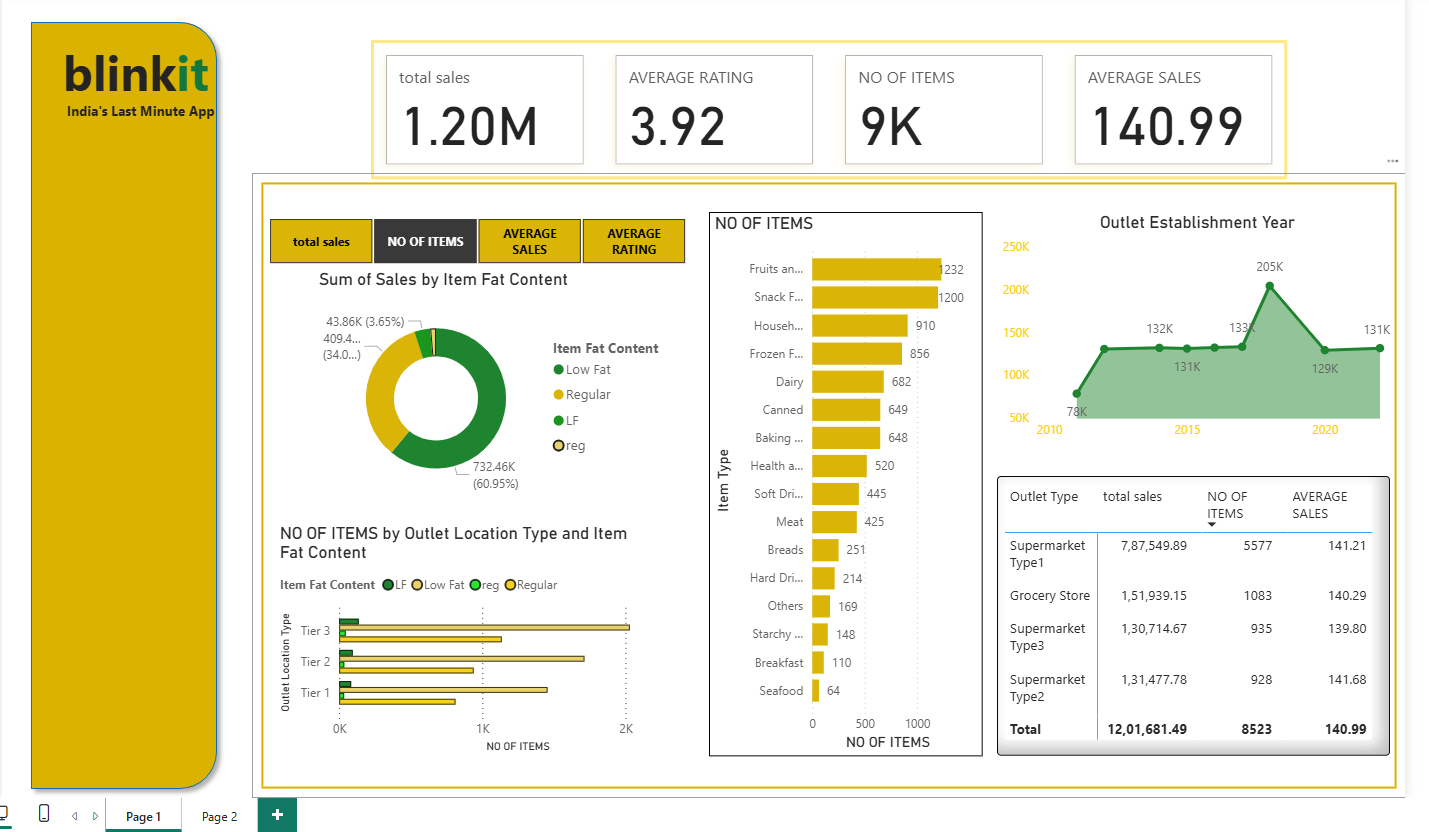

Layout of this report page (visuals, bound fields, positions):
{"tool":"powerbi","page":{"name":"Page 1","canvas":[1400,800],"ordinal":0},"visuals":[{"type":"shape","box":[20,17,203.5,783],"z":0},{"type":"textbox","box":[55.3,38.3,157.4,86.2],"z":1000},{"type":"textbox","box":[0,97.9,242.6,46.8],"z":2000},{"type":"cardVisual","fields":{"Data":["BlinkIT Grocery Data.total sales","BlinkIT Grocery Data.AVERAGE RATING","BlinkIT Grocery Data.NO OF ITEMS","BlinkIT Grocery Data.AVERAGE SALES"]},"box":[363.1,38.6,926.9,149.4],"z":3000},{"type":"slicer","fields":{"Values":["Parameter.Parameter"]},"box":[241,215.3,464.3,57.8],"z":4000},{"type":"clusteredBarChart","fields":{"Y":["BlinkIT Grocery Data.NO OF ITEMS"],"Category":["BlinkIT Grocery Data.Outlet Location Type"],"Series":["BlinkIT Grocery Data.Item Fat Content"]},"box":[272.3,525.5,433,233],"z":5000},{"type":"barChart","title":"NO OF ITEMS  ","fields":{"Y":["BlinkIT Grocery Data.NO OF ITEMS"],"Category":["BlinkIT Grocery Data.Item Type"]},"box":[705.2,215.3,273.1,543],"z":6000},{"type":"lineChart","title":"Outlet Establishment Year","fields":{"Y":["BlinkIT Grocery Data.total sales"],"Category":["BlinkIT Grocery Data.Outlet Establishment Year"]},"box":[992.6,216,400,235.1],"z":7000},{"type":"donutChart","fields":{"Y":["Sum(BlinkIT Grocery Data.Sales)"],"Category":["BlinkIT Grocery Data.Item Fat Content"]},"box":[311.7,272.3,355.3,237.2],"z":8000},{"type":"pivotTable","fields":{"Rows":["BlinkIT Grocery Data.Outlet Type"],"Values":["BlinkIT Grocery Data.total sales","BlinkIT Grocery Data.NO OF ITEMS","BlinkIT Grocery Data.AVERAGE SALES"]},"box":[992.5,478.8,392,279.3],"z":9000},{"type":"shape","box":[249.4,176.6,1151.1,623.4],"z":10000}]}

Visuals, with their boxes on the page's 1400x800 design canvas (x1, y1, x2, y2). These are canvas units, not pixel positions in the 1429x832 screenshot, which may show the page scaled, cropped or inside an application window:
shape: [left=20, top=17, right=224, bottom=800]
textbox: [left=55, top=38, right=213, bottom=124]
textbox: [left=0, top=98, right=243, bottom=145]
cardVisual - BlinkIT Grocery Data.total sales x BlinkIT Grocery Data.AVERAGE RATING: [left=363, top=39, right=1290, bottom=188]
slicer - Parameter.Parameter: [left=241, top=215, right=705, bottom=273]
clusteredBarChart - BlinkIT Grocery Data.NO OF ITEMS x BlinkIT Grocery Data.Outlet Location Type: [left=272, top=526, right=705, bottom=758]
"NO OF ITEMS  " barChart: [left=705, top=215, right=978, bottom=758]
"Outlet Establishment Year" lineChart: [left=993, top=216, right=1393, bottom=451]
donutChart - Sum(BlinkIT Grocery Data.Sales) x BlinkIT Grocery Data.Item Fat Content: [left=312, top=272, right=667, bottom=510]
pivotTable - BlinkIT Grocery Data.Outlet Type x BlinkIT Grocery Data.total sales: [left=992, top=479, right=1384, bottom=758]
shape: [left=249, top=177, right=1400, bottom=800]
